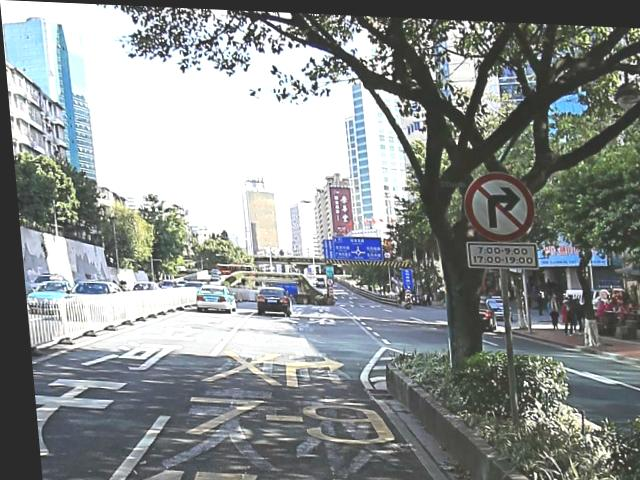not_turn_right: (459, 168, 535, 238)
